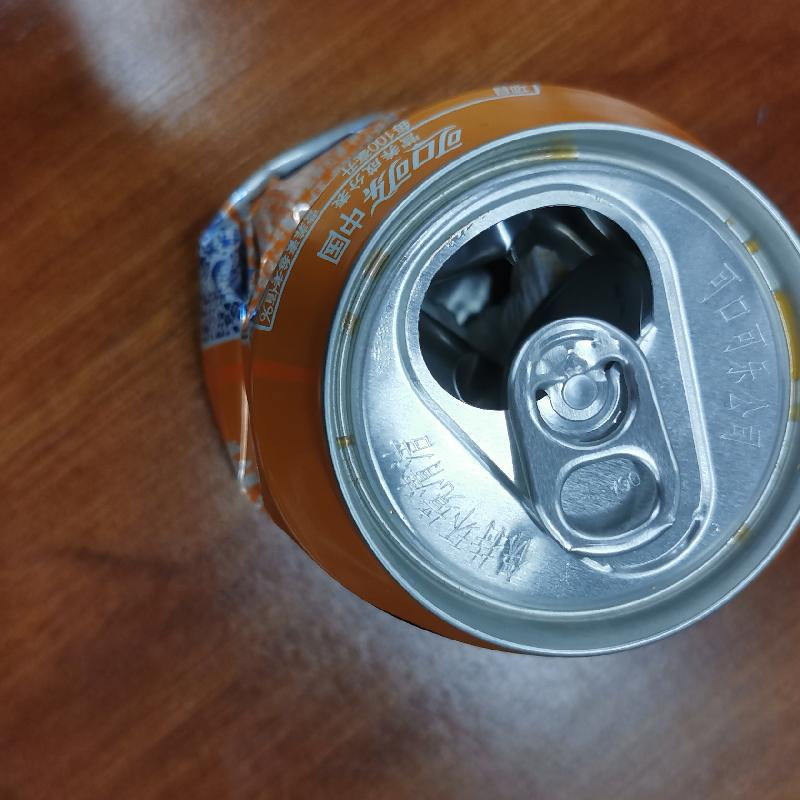cans: (190, 79, 800, 660)
